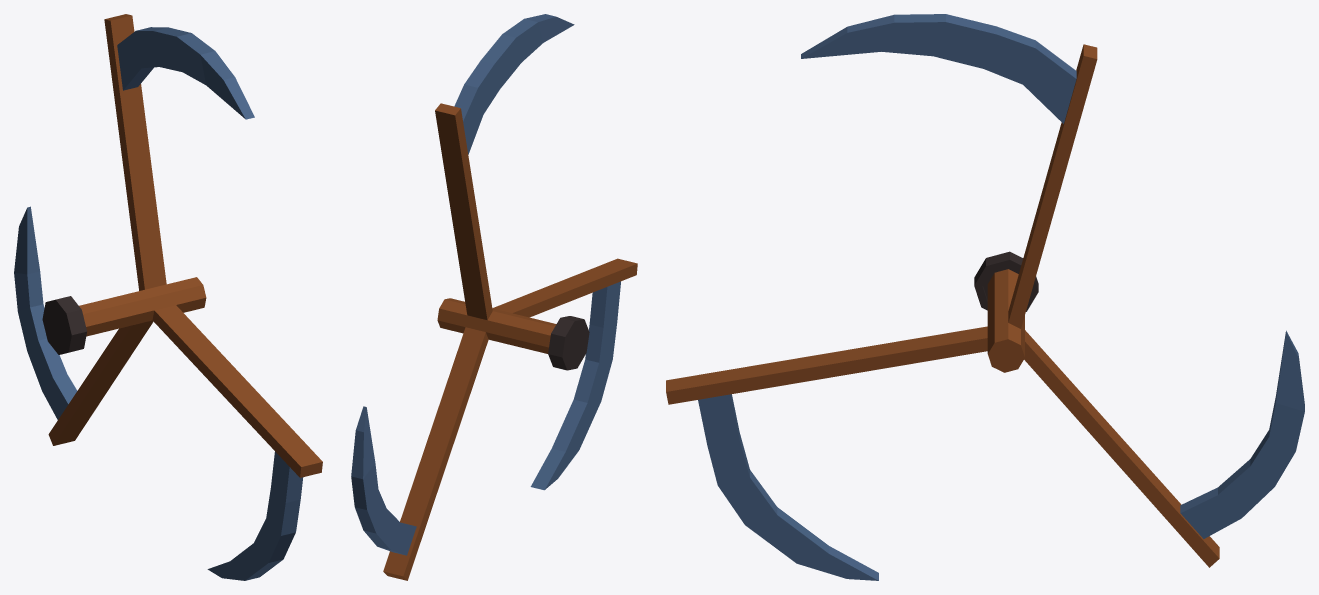
The model's file is Windmill Arm L.fbx.
The picture shows the model from 3 angles, left to right: view 1: azimuth 30°, elevation 25°; view 2: azimuth 150°, elevation 25°; view 3: azimuth 270°, elevation 25°; orthographic projection. The views are drawn at different scales.
Parts seen in each view (by area): view 1: Windmill Arm.L; view 2: Windmill Arm.L; view 3: Windmill Arm.L.
Boxes of the visible parts, x1,y1,x2,y2 form: Windmill Arm.L: (14,14,322,580); Windmill Arm.L: (351,14,637,580); Windmill Arm.L: (666,14,1304,580).
Size of the model in its own units: 4.3 by 14.89 by 15.43.
